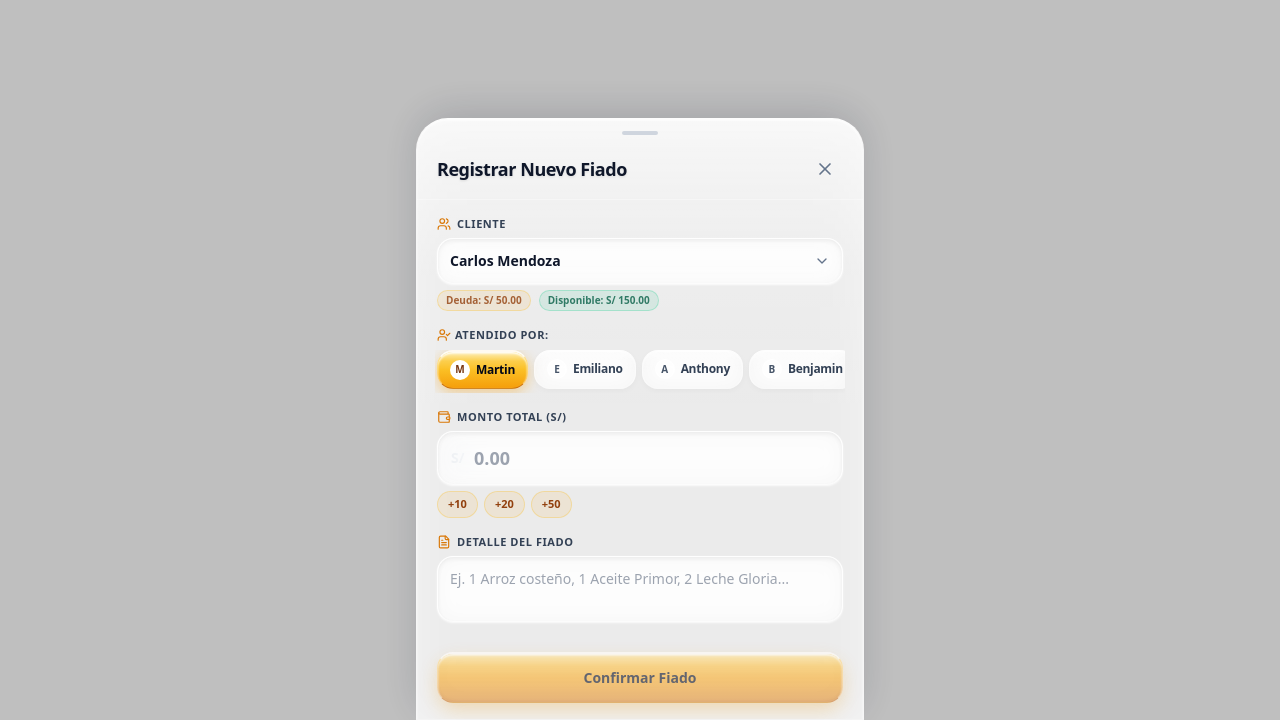
Test: QuickCreditModal - Cashier Selection & Fiado Flow › allows switching cashier with 1 touch and records transaction with selected operator
Expected: the text "Carlos Mendoza" is shown, left=450, top=251, right=561, bottom=271
// Switch to Anthony with 1 click
Click the button "A Anthony" at (692, 369), box left=642, top=350, right=743, bottom=388
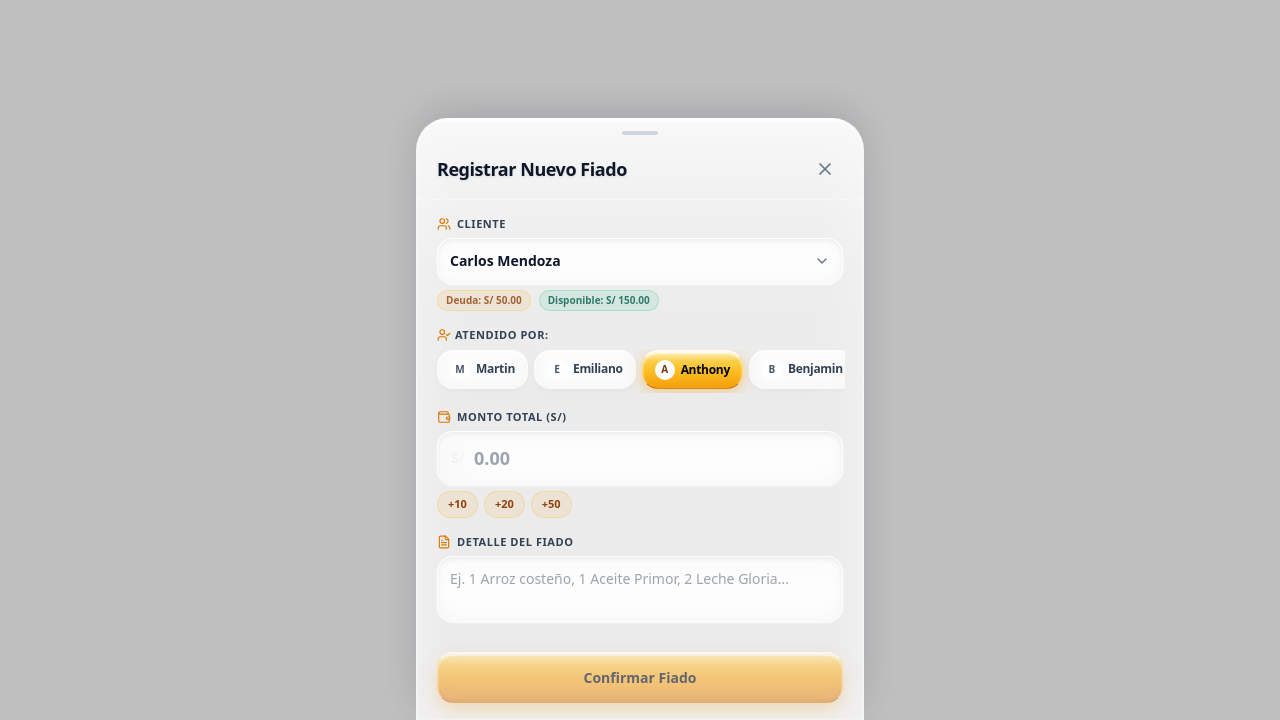
Expected: the button "A Anthony" is pressed, left=642, top=350, right=743, bottom=388
// Enter amount
Type "25.50" into the number field with placeholder "0.00" at (640, 458), box left=437, top=431, right=843, bottom=485
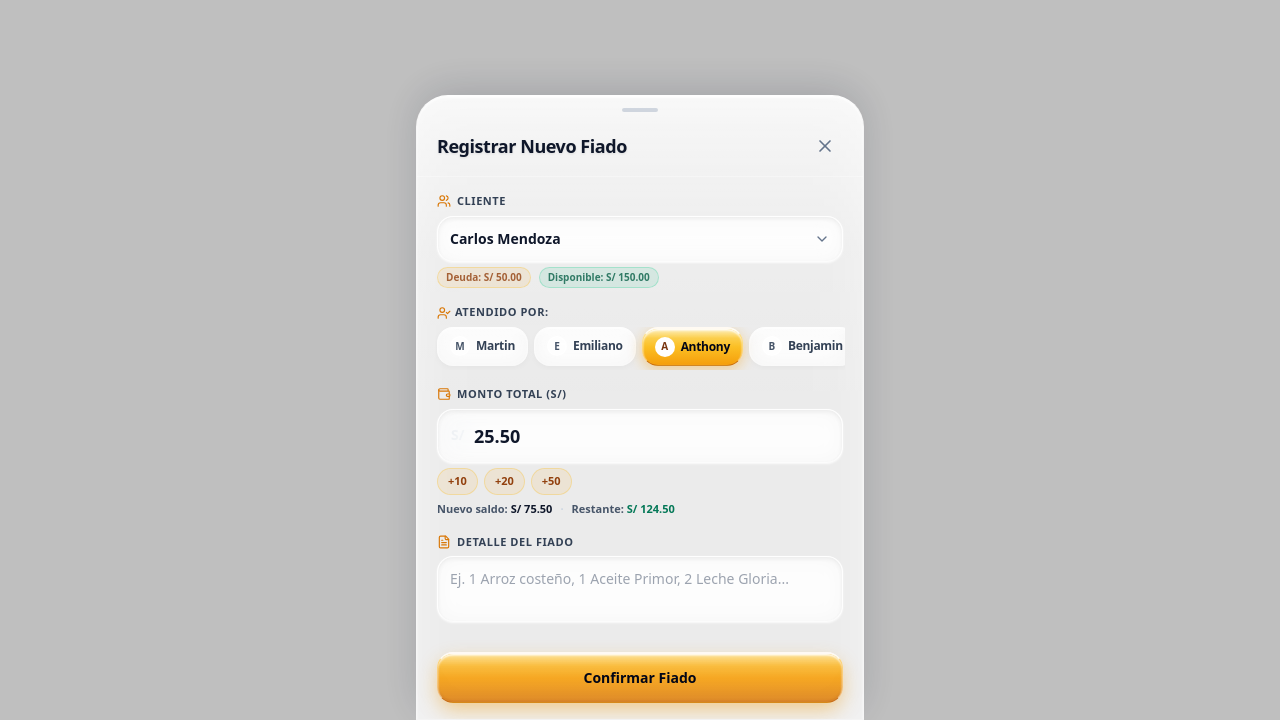
Click the button "Confirmar Fiado" at (640, 678), box left=437, top=652, right=843, bottom=703
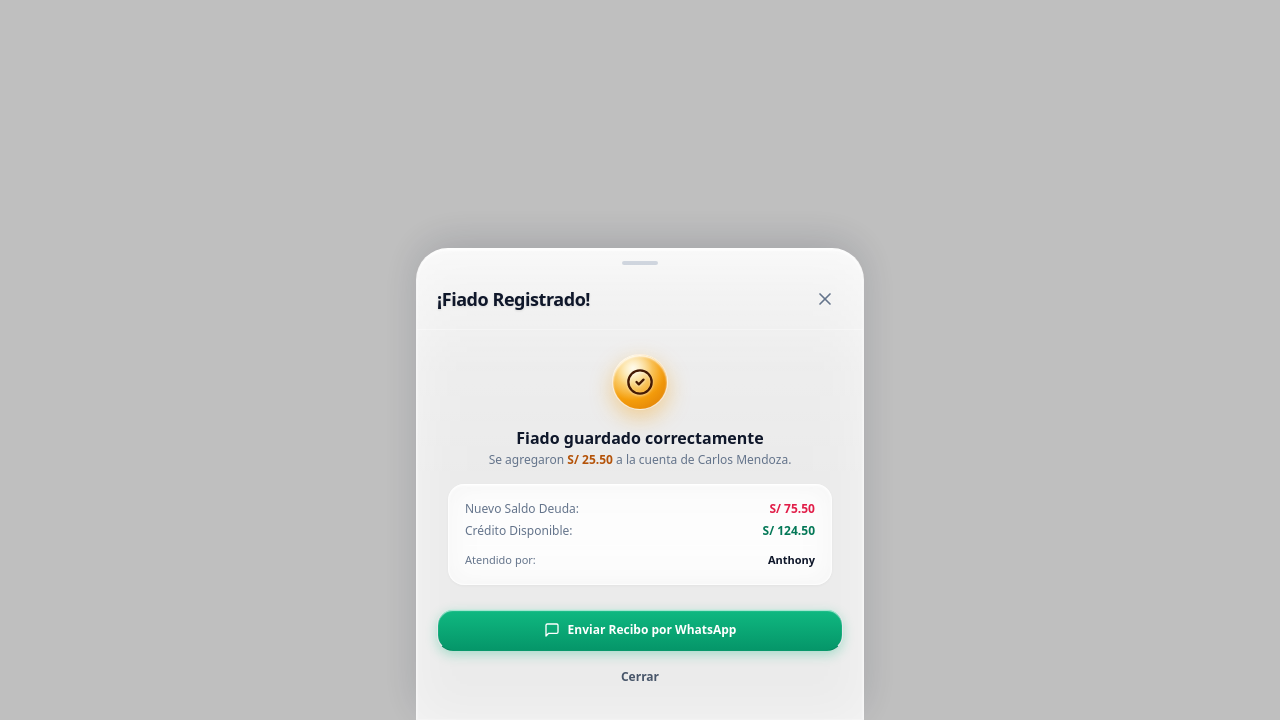
Expected: the text "Anthony" is shown, left=768, top=552, right=815, bottom=568
Expected: the heading "Fiado guardado correctamente" is shown, left=516, top=427, right=764, bottom=449
